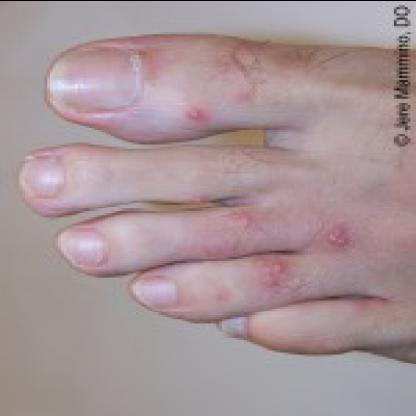Fire ant: (252, 254, 286, 291), (318, 222, 352, 254), (219, 208, 258, 233), (199, 244, 235, 262), (178, 104, 202, 129), (347, 293, 372, 314), (227, 94, 261, 108), (208, 289, 230, 308), (186, 196, 202, 210)
